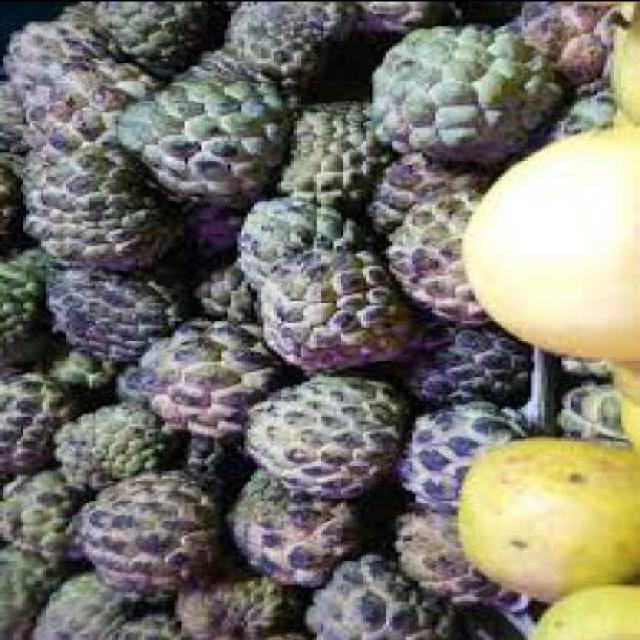BIODEGRADABLE: (464, 128, 640, 359), (459, 439, 640, 599), (374, 28, 562, 164), (119, 50, 285, 201), (0, 19, 164, 159), (24, 141, 184, 271), (248, 375, 408, 499), (371, 152, 486, 324), (119, 319, 279, 438), (259, 249, 411, 371), (395, 511, 532, 634), (79, 471, 214, 592), (229, 469, 356, 587), (400, 401, 525, 513), (61, 2, 231, 79), (225, 2, 369, 92), (306, 554, 451, 640), (48, 266, 175, 362), (239, 198, 372, 284), (32, 572, 182, 640), (411, 330, 530, 408), (279, 104, 368, 206), (515, 2, 625, 84), (55, 406, 156, 489), (0, 249, 65, 369), (0, 470, 86, 559), (0, 374, 68, 478), (176, 579, 281, 640), (529, 585, 640, 639), (0, 545, 62, 639), (184, 201, 247, 268), (558, 385, 625, 441), (156, 431, 224, 484), (361, 0, 462, 34), (0, 152, 32, 258), (612, 6, 640, 126), (198, 264, 254, 321), (614, 361, 640, 452), (49, 351, 111, 389)
